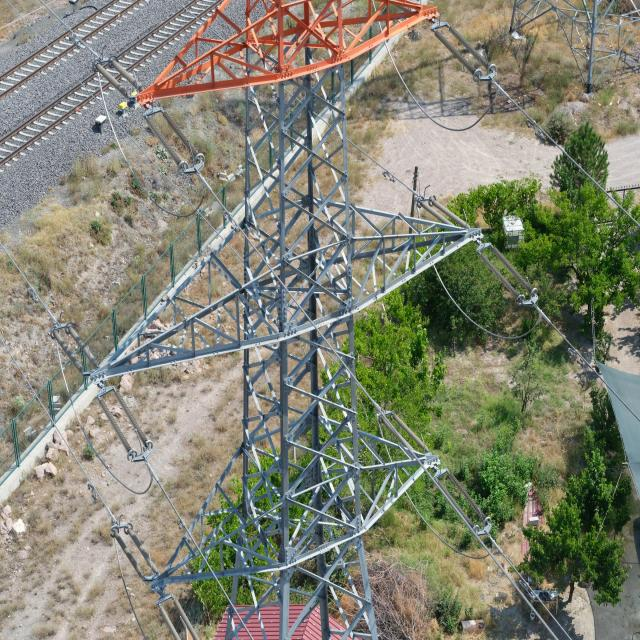voltage_line: (138, 0, 434, 609)
